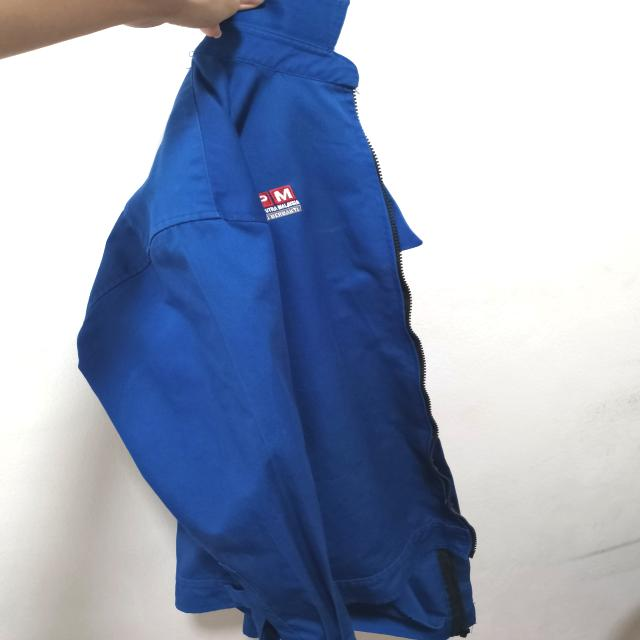person_without_labcoat: (78, 0, 476, 640)
